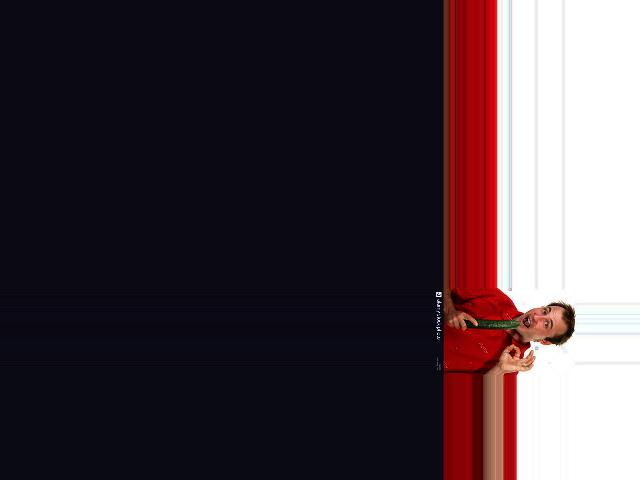cucumber: (465, 320, 520, 328)
